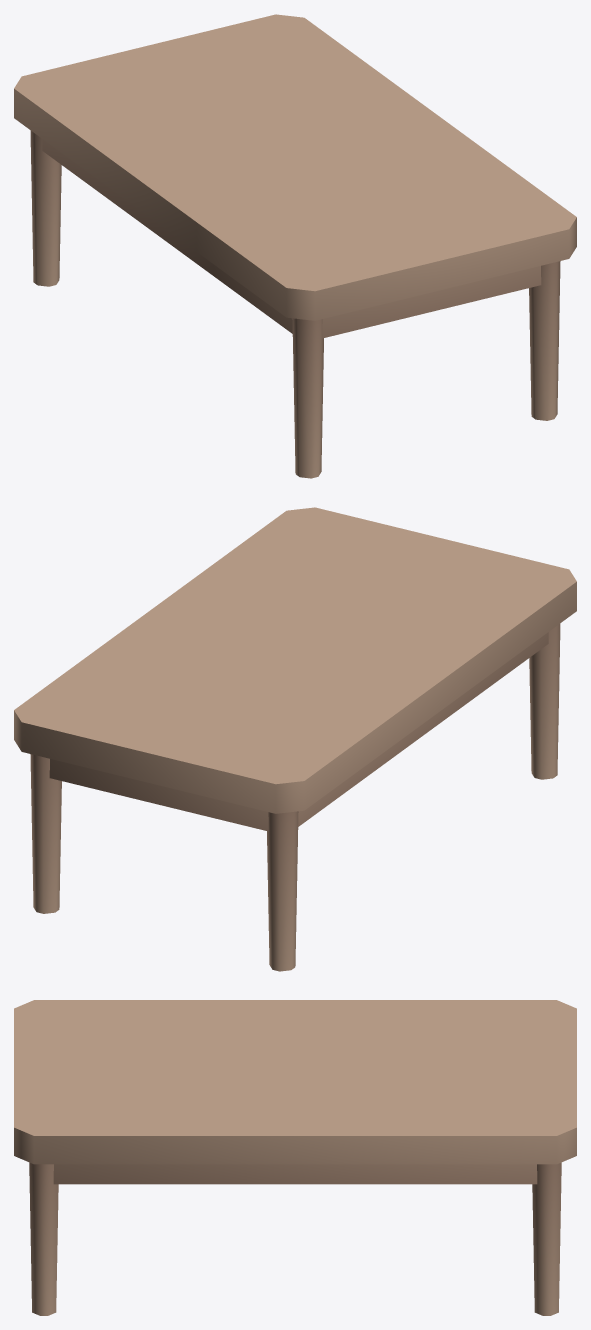
The model's file is table-classic-wood-rectangle.glb.
The picture shows the model from 3 angles, top to bottom: view 1: azimuth 30°, elevation 25°; view 2: azimuth 150°, elevation 25°; view 3: azimuth 270°, elevation 25°; orthographic projection. The views are drawn at different scales.
Visible parts, largest first — view 1: table-classic-wood-rectangle; view 2: table-classic-wood-rectangle; view 3: table-classic-wood-rectangle.
Boxes of the visible parts, x1,y1,x2,y2 form: table-classic-wood-rectangle: (14,14,576,478); table-classic-wood-rectangle: (14,507,576,971); table-classic-wood-rectangle: (14,1000,576,1315).
Bounding box in the file's own units: 0.8 × 0.5146 × 1.4.
